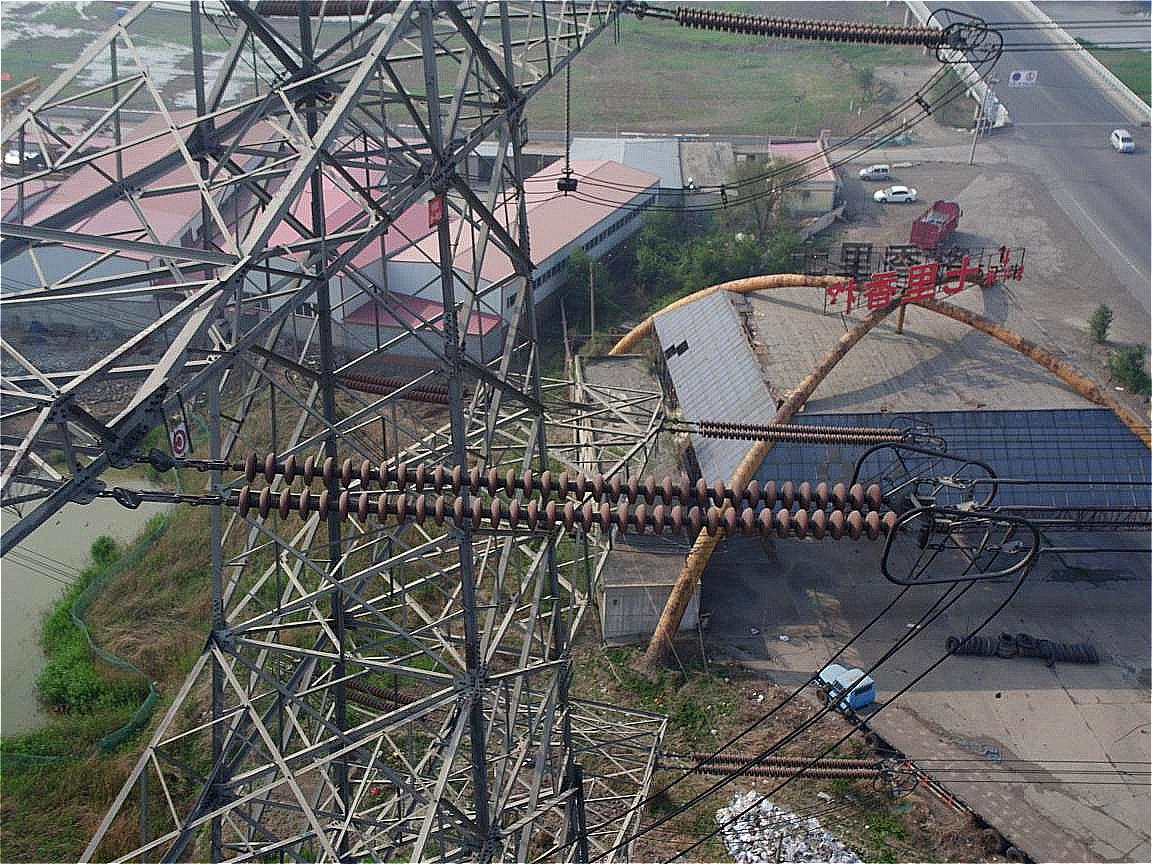insultor1: (226, 425, 915, 575), (700, 408, 920, 455)
insultor2: (647, 1, 967, 62)
